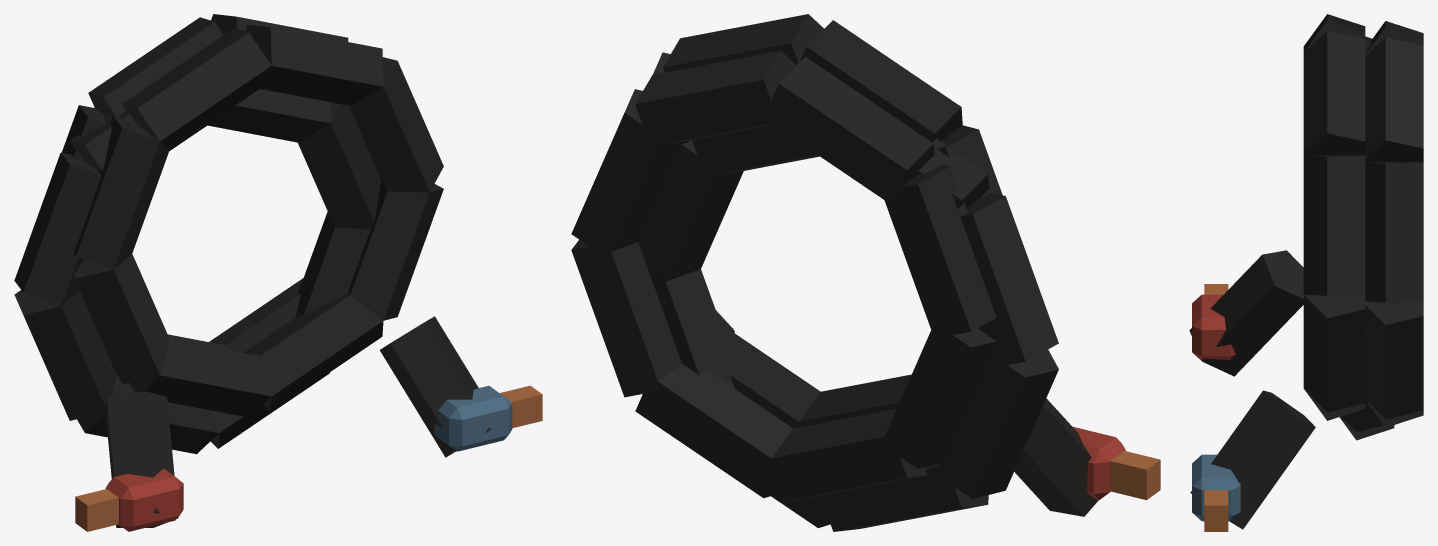
File: power_cable_silovoy_idle.glb
The picture shows the model from 3 angles, left to right: view 1: azimuth 30°, elevation 25°; view 2: azimuth 150°, elevation 25°; view 3: azimuth 270°, elevation 25°; orthographic projection. The views are drawn at different scales.
Parts seen in each view (by area): view 1: power_cable_silovoy_idle; view 2: power_cable_silovoy_idle; view 3: power_cable_silovoy_idle.
Part boxes in pixels (x1,y1,x2,y2): power_cable_silovoy_idle: (14, 14, 542, 531); power_cable_silovoy_idle: (571, 14, 1160, 531); power_cable_silovoy_idle: (1189, 14, 1423, 531).
Bounding box in the file's own units: 0.216 × 0.1934 × 0.0964.
1 material, 1 textured.
